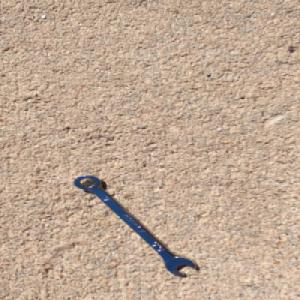Wrench: (71, 173, 200, 278)
